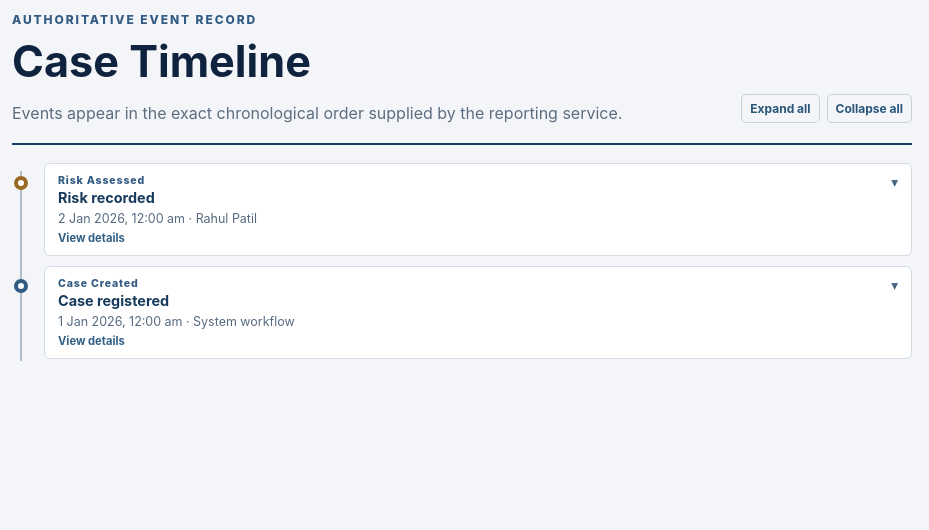
Test: Case Timeline › expands events independently and supports expand-all and collapse-all
Expected: the text "Risk recorded" is shown, [58, 189, 155, 206]
Click the button that starts with "Risk Assessed": [102, 180] box [45, 164, 911, 255]
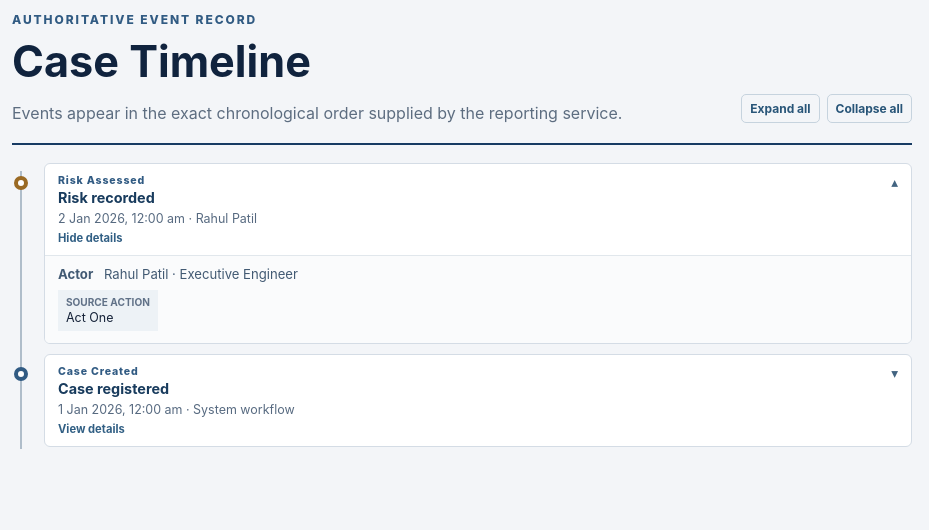
Now the button that starts with "Risk Assessed" is expanded, box [45, 164, 911, 255]
Click the button "Expand all": [780, 108] box [741, 94, 820, 123]
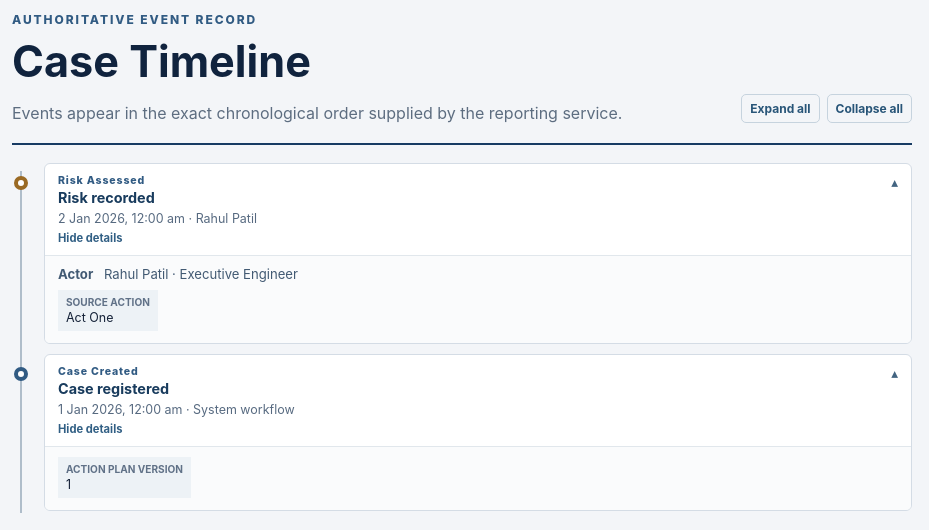
Now the button that starts with "Risk Assessed" is expanded, box [45, 164, 911, 255]
Now the button that starts with "Case Created" is expanded, box [45, 355, 911, 446]
Click the button "Collapse all": [869, 108] box [826, 94, 912, 123]
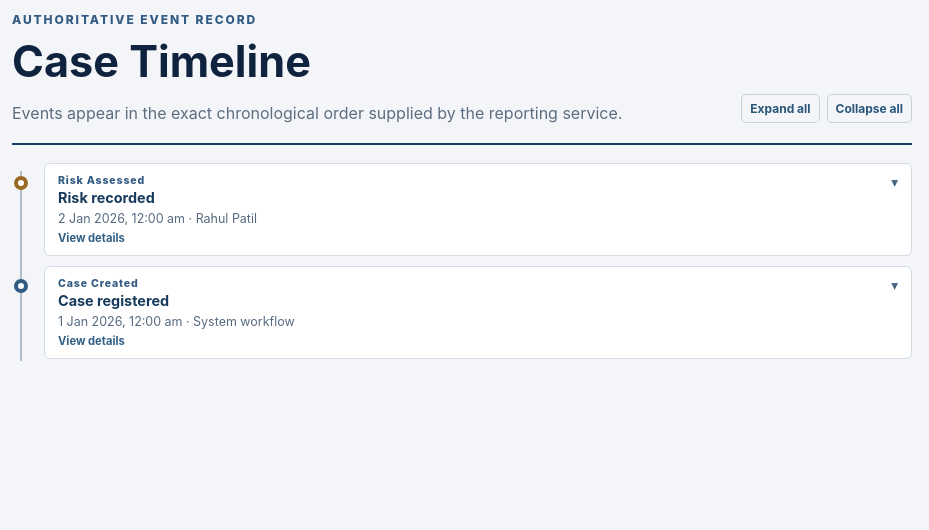
Now the button that starts with "Risk Assessed" is collapsed, box [45, 164, 911, 255]
Now the button that starts with "Case Created" is collapsed, box [45, 267, 911, 358]
